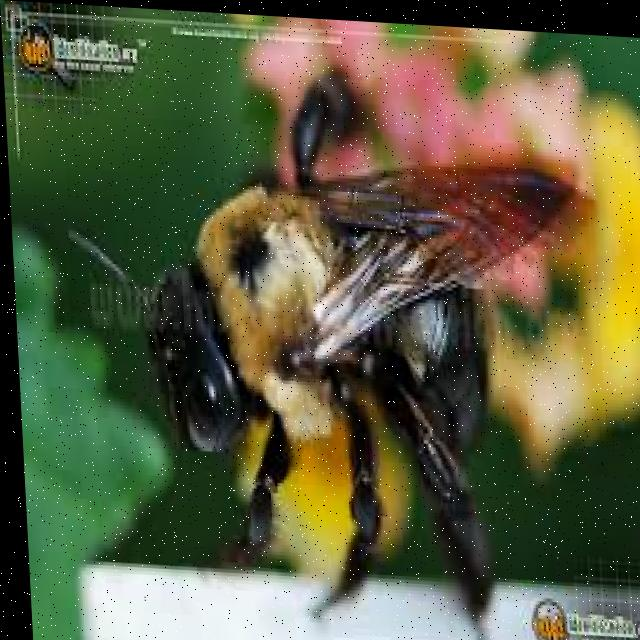Xylocopa: (90, 63, 606, 628)
